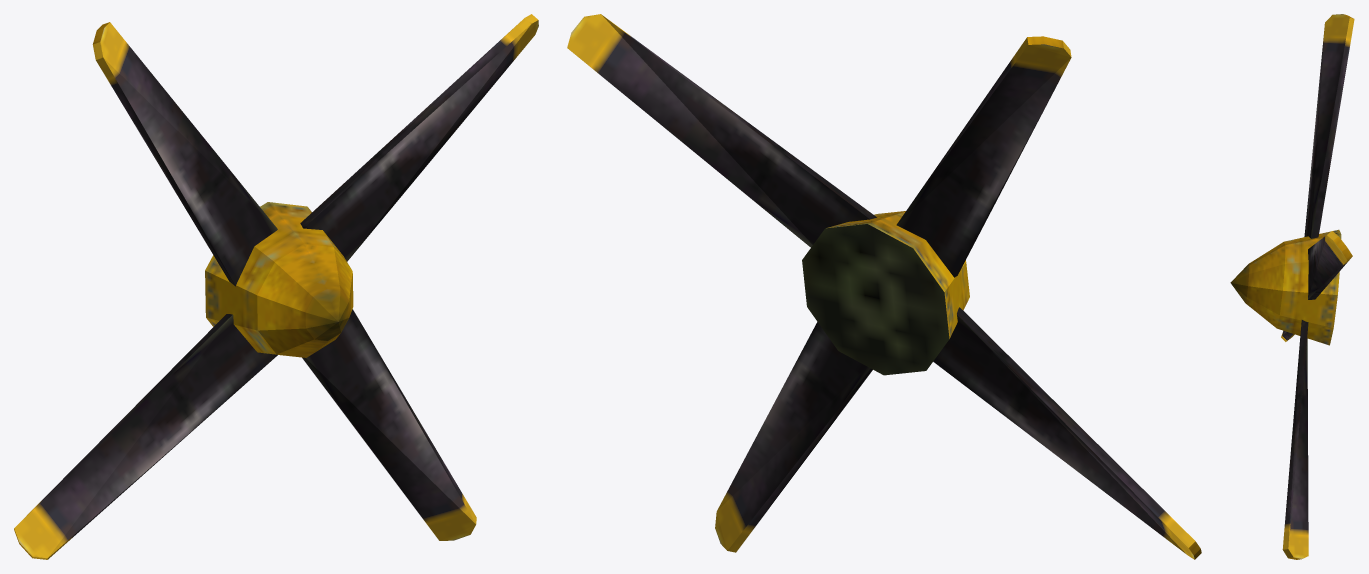
File: Prop.fbx
The picture shows the model from 3 angles, left to right: view 1: azimuth 30°, elevation 25°; view 2: azimuth 150°, elevation 25°; view 3: azimuth 270°, elevation 25°; orthographic projection. The views are drawn at different scales.
Visible parts, largest first — view 1: polySurface21; view 2: polySurface21; view 3: polySurface21.
Boxes of the visible parts, left/top/right/bottom form: polySurface21: left=14, top=14, right=538, bottom=559; polySurface21: left=567, top=14, right=1201, bottom=559; polySurface21: left=1230, top=14, right=1354, bottom=559.
Size of the model in its own units: 895 by 886 by 232.
Materials: 1 (1 with a texture image).
